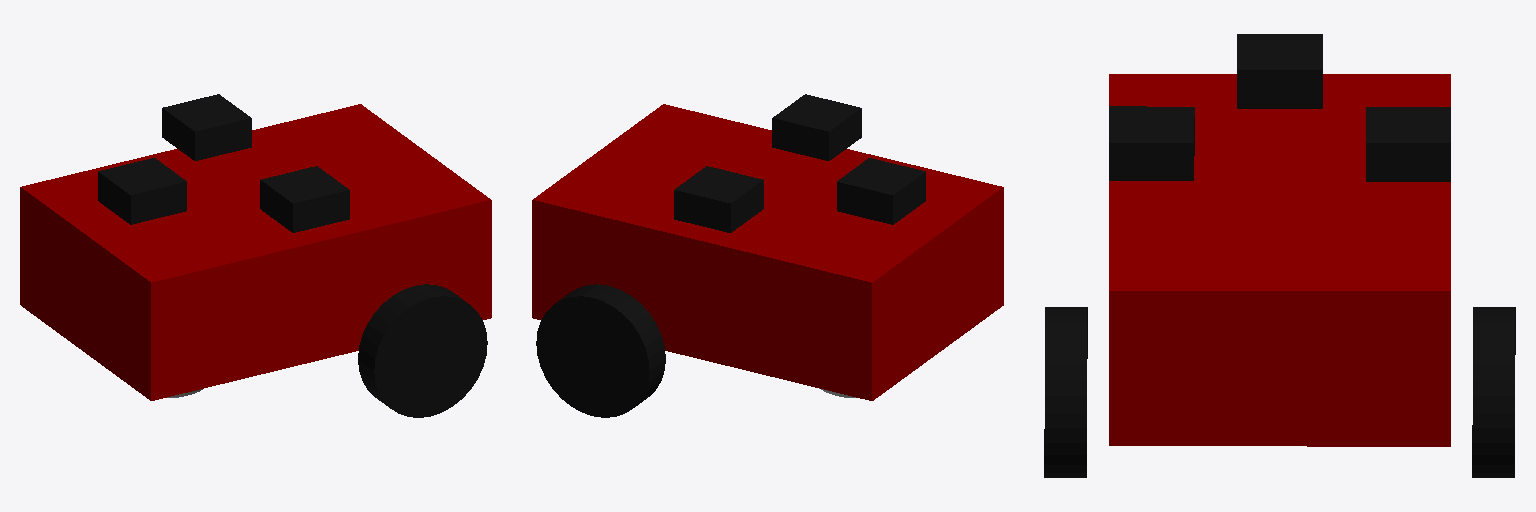
robot.urdf — simple_bot:
<?xml version="1.0"?>
<robot name="simple_bot" xmlns:xacro="http://ros.org/wiki/xacro">

  <!-- Materials -->
  <material name="red">
    <color rgba="0.6 0.0 0.0 1"/>
  </material>
  <material name="black">
    <color rgba="0.1 0.1 0.1 1"/>
  </material>
  <material name="grey">
    <color rgba="0.5 0.5 0.5 1"/>
  </material>

  <!-- Links -->
  <link name="base_descr"/>
  <link name="base_link">
    <visual>
      <geometry>
        <box size="0.6 0.4 0.2"/>
      </geometry>
      <origin xyz="0.0 0.0 0.0" rpy="0.0 0.0 0.0"/>
      <material name="red"/>
    </visual>

    <collision>
    <geometry>
      <box size="0.6 0.4 0.2"/>
    </geometry>
    <origin xyz="0.0 0.0 0.0" rpy="0.0 0.0 0"/>
    </collision>

    <inertial>
    <mass value="5.0"/>
    <origin xyz="0 0 0" rpy="0 0 0"/>
    <inertia 
      ixx="0.1" ixy="0.0" ixz="0.0"
      iyy="0.1" iyz="0.0"
      izz="0.1"/>
    </inertial>
  </link>
  <link name="camera1">
    <visual>
      <geometry>
        <box size="0.1 0.1 0.05"/>
      </geometry>
      <origin xyz="0.0 0.0 0.0" rpy="0.0 0.0 0.0"/>
      <material name="black"/>
    </visual>

    <collision>
    <geometry>
      <box size="0.1 0.1 0.05"/>
    </geometry>
    <origin xyz="0.0 0.0 0.0" rpy="0.0 0.0 0.0"/>
    </collision>

    <inertial>
    <mass value="0.5"/>
    <origin xyz="0 0 0" rpy="0 0 0"/>
    <inertia 
      ixx="0.1" ixy="0.0" ixz="0.0"
      iyy="0.1" iyz="0.0"
      izz="0.1"/>
    </inertial>
  </link>


  <link name="camera2">
    <visual>
      <geometry>
        <box size="0.1 0.1 0.05"/>
      </geometry>
      <origin xyz="0.0 0.0 0.0" rpy="0.0 0.0 0.0"/>
      <material name="black"/>
    </visual>

    <collision>
    <geometry>
      <box size="0.1 0.1 0.05"/>
    </geometry>
    <origin xyz="0.0 0.0 0.0" rpy="0.0 0.0 0.0"/>
    </collision>

    <inertial>
    <mass value="0.5"/>
    <origin xyz="0 0 0" rpy="0 0 0"/>
    <inertia 
      ixx="0.1" ixy="0.0" ixz="0.0"
      iyy="0.1" iyz="0.0"
      izz="0.1"/>
    </inertial>
  </link>

  <link name="camera3">
    <visual>
      <geometry>
        <box size="0.1 0.1 0.05"/>
      </geometry>
      <origin xyz="0.0 0.0 0.0" rpy="0.0 0.0 0.0"/>
      <material name="black"/>
    </visual>

    <collision>
    <geometry>
      <box size="0.1 0.1 0.05"/>
    </geometry>
    <origin xyz="0.0 0.0 0.0" rpy="0.0 0.0 0.0"/>
    </collision>

    <inertial>
    <mass value="0.5"/>
    <origin xyz="0 0 0" rpy="0 0 0"/>
    <inertia 
      ixx="0.1" ixy="0.0" ixz="0.0"
      iyy="0.1" iyz="0.0"
      izz="0.1"/>
    </inertial>
  </link>

  <link name="left_wheel">
    <visual>
      <geometry>
        <cylinder length="0.05" radius="0.1"/>
      </geometry>
      <origin xyz="0 0 0" rpy="0 0 0"/>
      <material name="black"/>
    </visual>
    <collision>
    <geometry>
      <cylinder radius="0.1" length="0.05"/>
    </geometry>
    <origin xyz="0.0 0.0 0.0" rpy="0.0 0.0 0"/>
  </collision>
  <inertial>
    <mass value="0.5"/>
    <origin xyz="0 0 0" rpy="0 0 0"/>
    <inertia 
      ixx="0.1" ixy="0.0" ixz="0.0"
      iyy="0.1" iyz="0.0"
      izz="0.1"/>
  </inertial>
  </link>

  <link name="right_wheel">
    <visual>
      <geometry>
        <cylinder length="0.05" radius="0.1"/>
      </geometry>
      <origin xyz="0 0 0" rpy="0.0 0 0"/>
      <material name="black"/>
    </visual>
    <collision>
    <geometry>
      <cylinder radius="0.1" length="0.05"/>
    </geometry>
    <origin xyz="0.0 0.0 0.0" rpy="0.0 0.0 0"/>
  </collision>

  <inertial>
    <mass value="2.0"/>
    <origin xyz="0 0 0" rpy="0 0 0"/>
    <inertia 
      ixx="0.1" ixy="0.0" ixz="0.0"
      iyy="0.1" iyz="0.0"
      izz="0.1"/>
  </inertial>
  </link>
  

  <link name="caster_wheel">
    <visual>
      <geometry>
        <sphere radius="0.1"/>
      </geometry>
      <material name="grey"/>
    </visual>
    <collision>
    
    <geometry>
      <sphere radius="0.1"/>
    </geometry>
  </collision>

  <inertial>
    <mass value="0.05"/>
    <origin xyz="0 0 0" rpy="0 0 0"/>
    <inertia 
      ixx="0.1" ixy="0.0" ixz="0.0"
      iyy="0.1" iyz="0.0"
      izz="0.1"/>
  </inertial>
  </link>

  <!-- Joints -->
  <joint name="left_wheel_joint" type="continuous">
    <parent link="base_link"/>
    <child link="left_wheel"/>
    <origin xyz="-0.15 0.25 -0.1" rpy="1.57 0 3.141"/>
    <axis xyz="0.0 0.0 1"/>
  </joint>
  <joint name="camera1_base_joint" type="fixed">
    <parent link="base_link"/>
    <child link="camera1"/>
    <origin xyz="0.2 0 0.15" rpy="0 0 0"/>
  </joint>

  <joint name="camera2_base_joint" type="fixed">
    <parent link="base_link"/>
    <child link="camera2"/>
    <origin xyz="0.0 0.15 0.15" rpy="0 0 1.57"/>
  </joint>

  <joint name="camera3_base_joint" type="fixed">
    <parent link="base_link"/>
    <child link="camera3"/>
    <origin xyz="0.0 -0.15 0.15" rpy="0 0 -1.57"/>
  </joint>

  <joint name="right_wheel_joint" type="continuous">
    <parent link="base_link"/>
    <child link="right_wheel"/>
    <origin xyz="-0.15 -0.25 -0.1" rpy="1.57 0 3.141"/>
    <axis xyz="0.0 0.0 1"/>
  </joint>

  <joint name="caster_wheel_joint" type="fixed">
  <parent link="base_link"/>
  <child link="caster_wheel"/>
  <origin xyz="0.15 0 -0.1" rpy="0 0 0.0"/>
  </joint>

  <joint name="base" type="fixed">
    <parent link="base_descr"/>
    <child link="base_link"/>
    <origin rpy="0.0 0.0 3.141"/>
  </joint>

  <gazebo reference="right_wheel">
  <material>Gazebo/Grey</material>
  <pose>0 0 0 0 0 0</pose>
  <mu1>0.5</mu1>
  <mu2>0.5</mu2>
  </gazebo>
  <gazebo reference="caster_wheel">
  <material>Gazebo/Grey</material>
  <mu1>0</mu1>
  <mu2>0</mu2>
  </gazebo>
  <gazebo reference="left_wheel">
  <material>Gazebo/Grey</material>
  <pose>0 0 0 0 0 0</pose>
  <mu1>0.5</mu1>
  <mu2>0.5</mu2>
  </gazebo>
  <gazebo reference="base_link">
  <material>Gazebo/Red</material>
  <pose>0 0 0 0 0 3.1416</pose>
  </gazebo>
  <!-- Add Camera Plugin Here -->
  <gazebo reference="camera1">
  <material>Gazebo/Black</material>
    <sensor type="camera" name="camera_sensor">
      <camera>
        <horizontal_fov>1.396</horizontal_fov>
        <image>
          <width>640</width>
          <height>480</height>
          <format>R8G8B8</format>
        </image>
        <clip>
          <near>0.1</near>
          <far>100</far>
        </clip>
      </camera>
      <plugin name="camera_controller1" filename="libgazebo_ros_camera.so">
        <camera_name>camera1</camera_name>
        <image_topic_name>image_raw</image_topic_name>
        <camera_info_topic_name>camera_info</camera_info_topic_name>
        <frame_name>camera1</frame_name>
      </plugin>
    </sensor>
  </gazebo>


  <gazebo reference="camera2">
  <material>Gazebo/Black</material>
    <sensor type="camera" name="camera_sensor">
      <camera>
        <horizontal_fov>1.396</horizontal_fov>
        <image>
          <width>640</width>
          <height>480</height>
          <format>R8G8B8</format>
        </image>
        <clip>
          <near>0.1</near>
          <far>100</far>
        </clip>
      </camera>
      <plugin name="camera_controller2" filename="libgazebo_ros_camera.so">
        <camera_name>camera2</camera_name>
        <image_topic_name>image_raw</image_topic_name>
        <camera_info_topic_name>camera_info</camera_info_topic_name>
        <frame_name>camera2</frame_name>
      </plugin>
    </sensor>
  </gazebo>

  <gazebo reference="camera3">
  <material>Gazebo/Black</material>
    <sensor type="camera" name="camera_sensor">
      <camera>
        <horizontal_fov>1.396</horizontal_fov>
        <image>
          <width>640</width>
          <height>480</height>
          <format>R8G8B8</format>
        </image>
        <clip>
          <near>0.1</near>
          <far>100</far>
        </clip>
      </camera>
      <plugin name="camera_controller3" filename="libgazebo_ros_camera.so">
        <camera_name>camera3</camera_name>
        <image_topic_name>image_raw</image_topic_name>
        <camera_info_topic_name>camera_info</camera_info_topic_name>
        <frame_name>camera3</frame_name>
      </plugin>
    </sensor>
  </gazebo>

  <gazebo>
  <plugin name="follower_diff_drive_controller" filename="libgazebo_ros_diff_drive.so">
      <ros>
        <remapping>cmd_vel:=/cmd_vel</remapping>
      </ros>
      <update_rate>50</update_rate>
      <left_joint>left_wheel_joint</left_joint>
      <right_joint>right_wheel_joint</right_joint>
      <wheel_separation>0.5</wheel_separation>
      <wheel_diameter>0.3</wheel_diameter>
      <use_sim_time>true</use_sim_time>
      <publish_odom>true</publish_odom>
      <publish_odom_tf>true</publish_odom_tf>
      <publish_wheel_tf>false</publish_wheel_tf>
      <max_wheel_acceleration>20</max_wheel_acceleration>
      <odometry_topic>/odom</odometry_topic>
      <odometry_frame>odom</odometry_frame>
      <robot_base_frame>base_link</robot_base_frame>
    </plugin>
  </gazebo>

</robot>

--- What the picture shows (computed from the rendered views, not written in the file) ---
The picture shows the robot from 3 angles, left to right: view 1: azimuth 30°, elevation 25°; view 2: azimuth 150°, elevation 25°; view 3: azimuth 270°, elevation 25°; orthographic projection.
Robot: simple_bot — 8 links, 7 joints (2 continuous, 5 fixed); root link base_descr; default pose: every joint at zero.
Visible links, largest first — view 1: base_link, left_wheel, camera3, camera2, camera1; view 2: base_link, right_wheel, camera2, camera3, camera1; view 3: base_link, left_wheel, right_wheel, camera1, camera2, camera3.
Boxes of the visible links, x1,y1,x2,y2 form: base_link: (20, 104, 491, 400); left_wheel: (358, 284, 487, 417); camera3: (162, 94, 251, 160); camera2: (260, 166, 349, 232); camera1: (98, 158, 186, 224); base_link: (532, 104, 1003, 400); right_wheel: (536, 284, 665, 417); camera2: (772, 94, 861, 160); camera3: (674, 166, 763, 232); camera1: (837, 158, 925, 224); base_link: (1109, 74, 1450, 446); left_wheel: (1044, 307, 1087, 477); right_wheel: (1472, 307, 1515, 477); camera1: (1237, 34, 1322, 108); camera2: (1109, 106, 1194, 180); camera3: (1366, 107, 1450, 181).
Bounding box of the posed robot: 0.6002 × 0.5503 × 0.375 m (x, y, z).
Geometry: primitives only (box / cylinder / sphere), no mesh files.